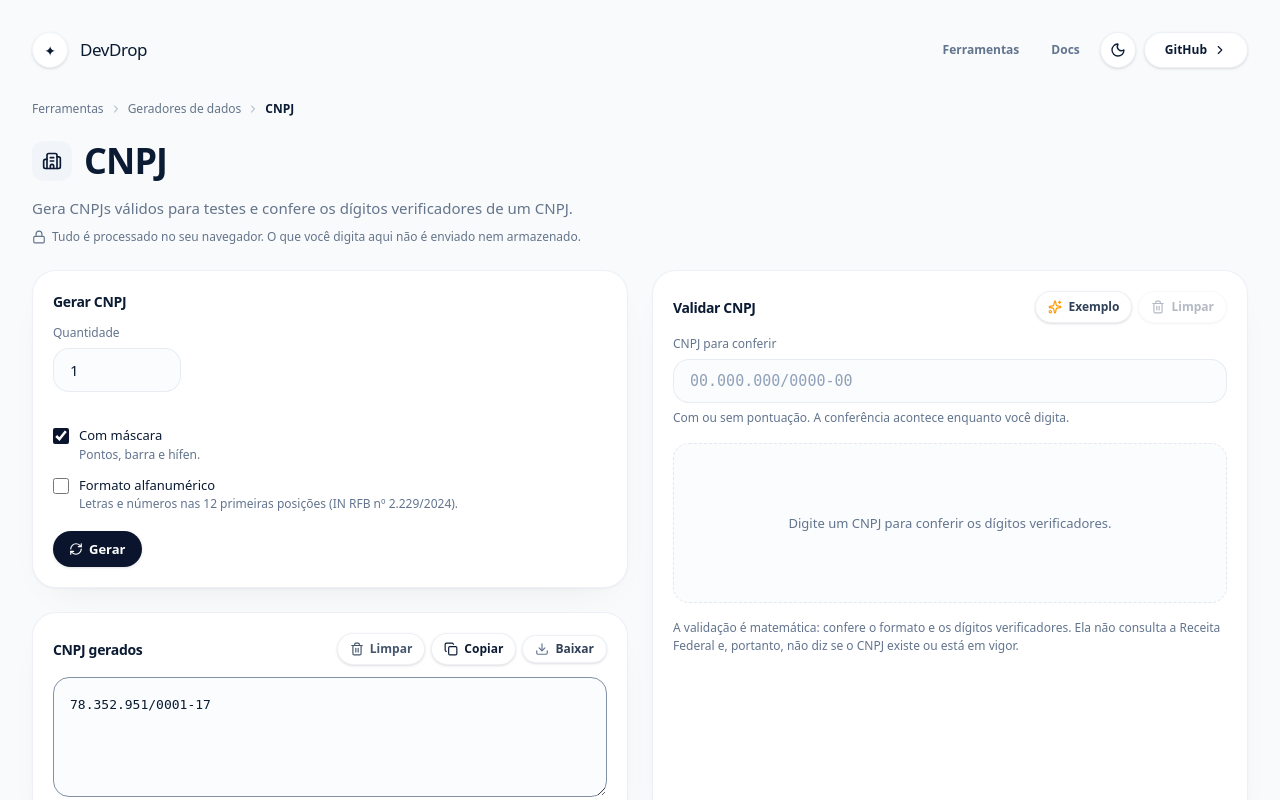
Test: generators › generates valid CNPJs in both formats
Click the checkbox labelled "alfanumérico": (61, 486) [53,478,69,494]
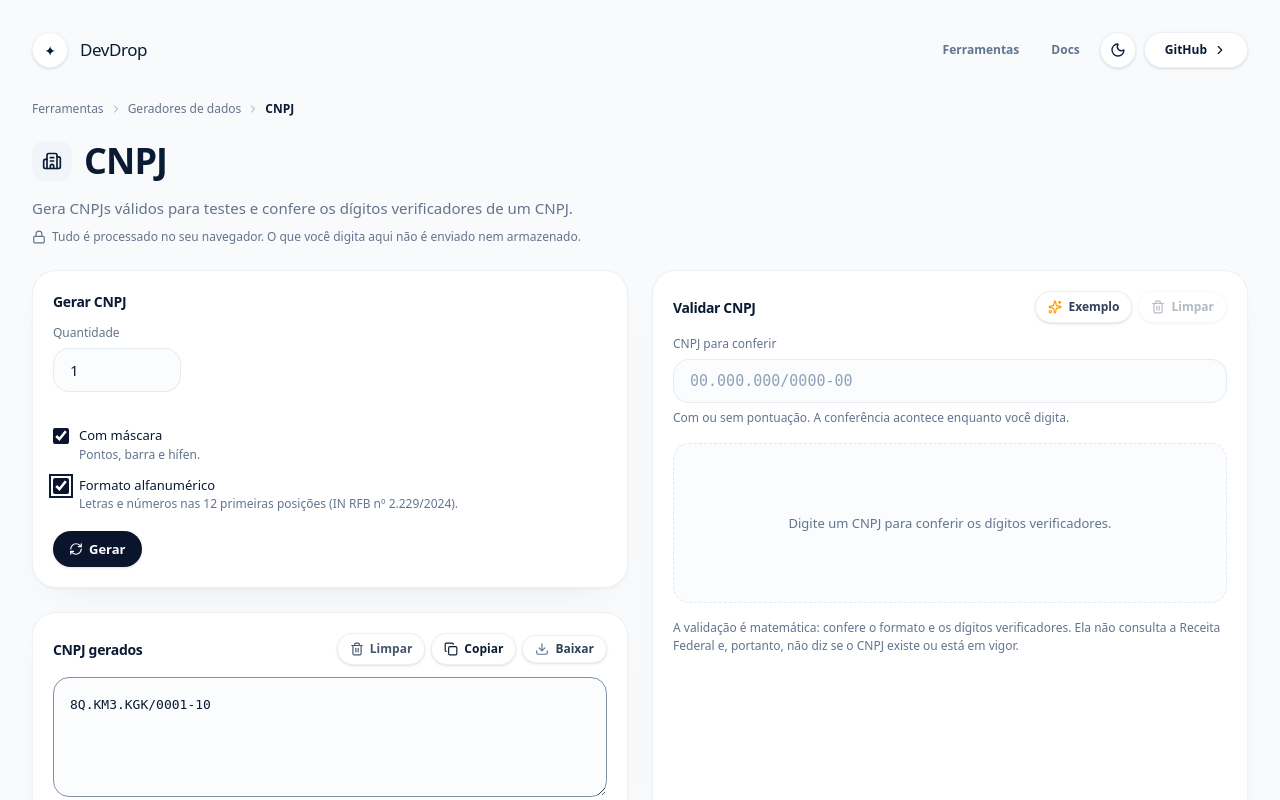
Click the button "Exemplo": (1084, 307) [1036,291,1132,323]
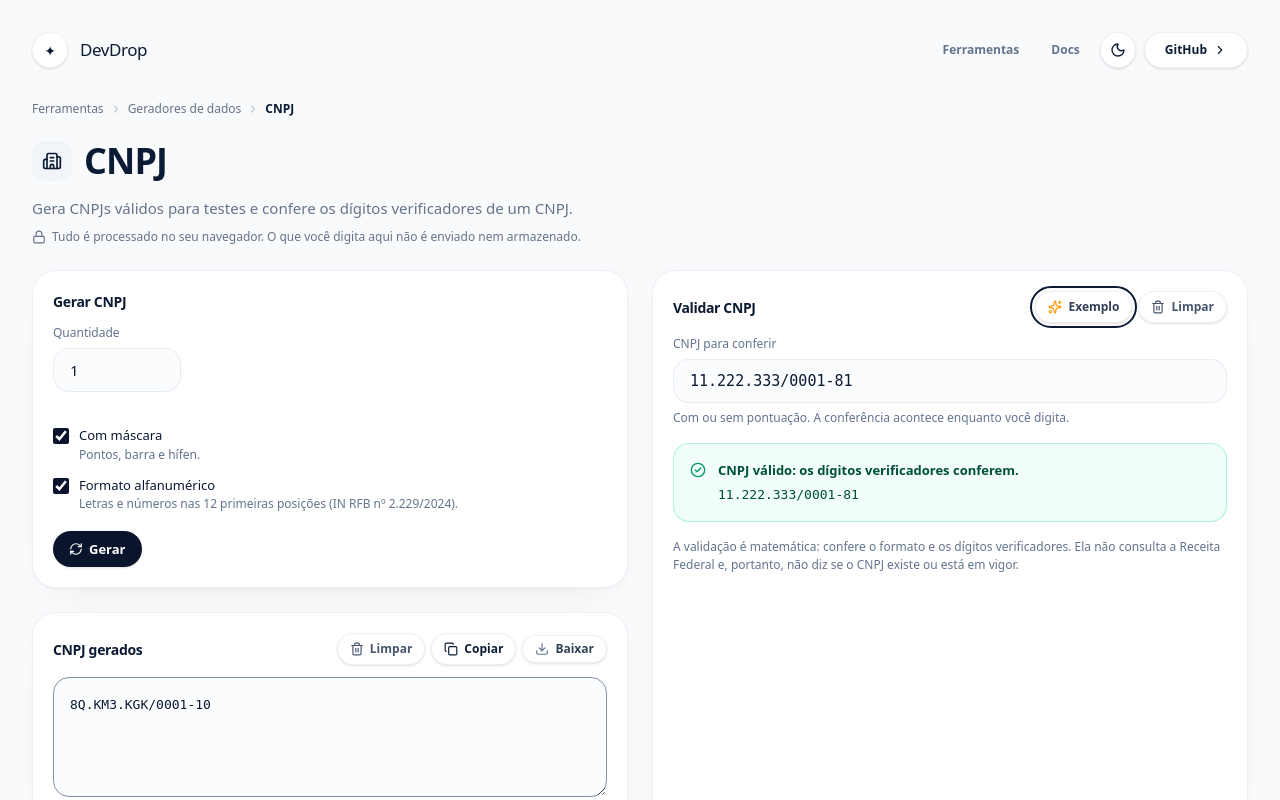
Expected: the text "CNPJ válido: os dígitos verificadores conferem." is shown, [718,461,1019,479]
